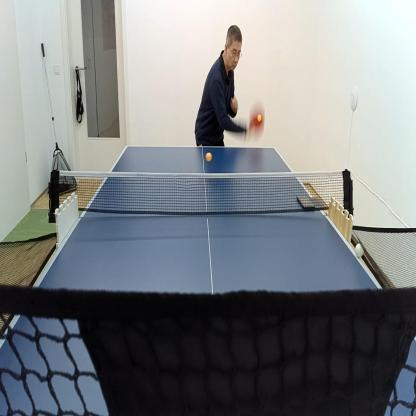Ball: (355, 244, 363, 258), (206, 152, 212, 160), (257, 114, 262, 122)
